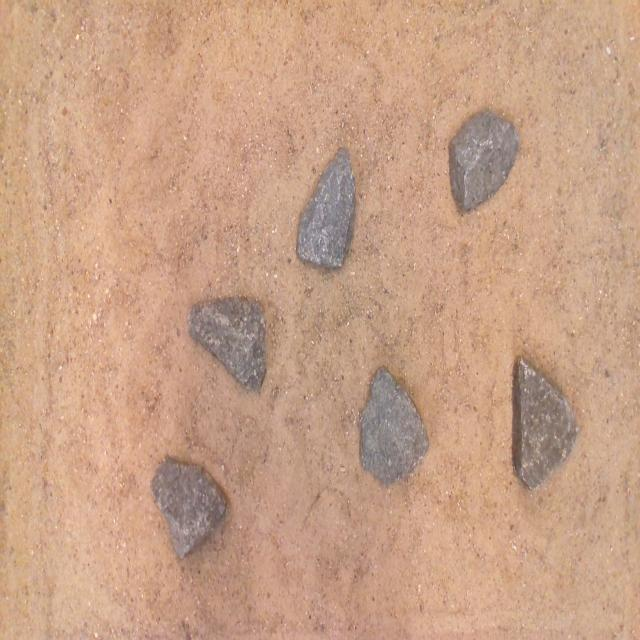rock: (513, 358, 577, 488), (360, 367, 428, 484), (151, 457, 226, 558), (188, 296, 265, 389), (449, 111, 519, 210), (297, 149, 355, 268)
